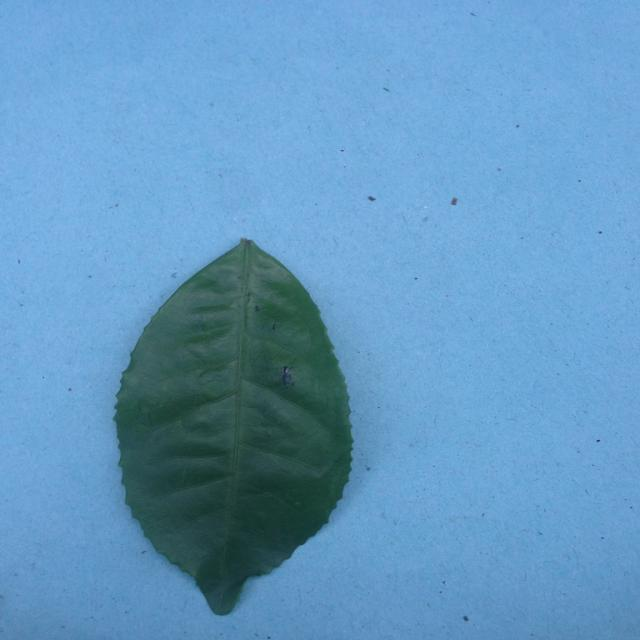Healthy: (95, 203, 410, 640)
